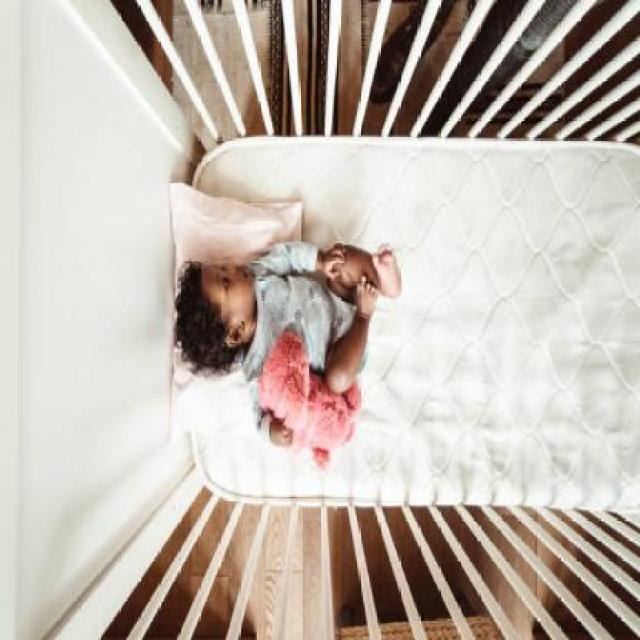baby: (175, 236, 402, 450)
